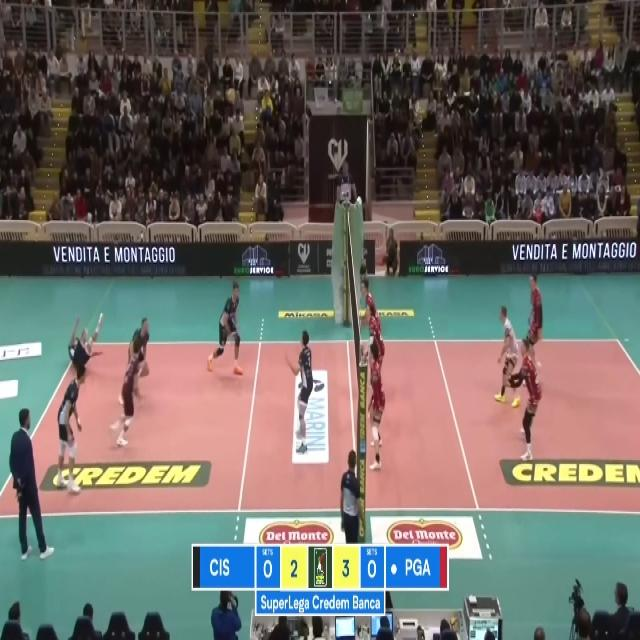volleyball court: (1, 336, 639, 513)
